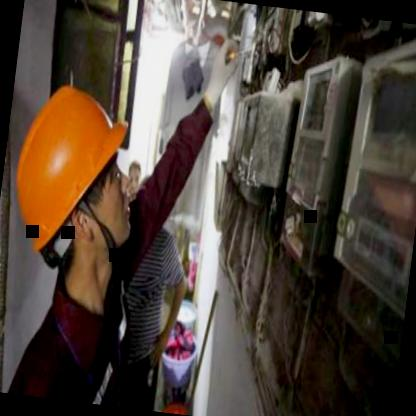helmet: (0, 63, 157, 331)
